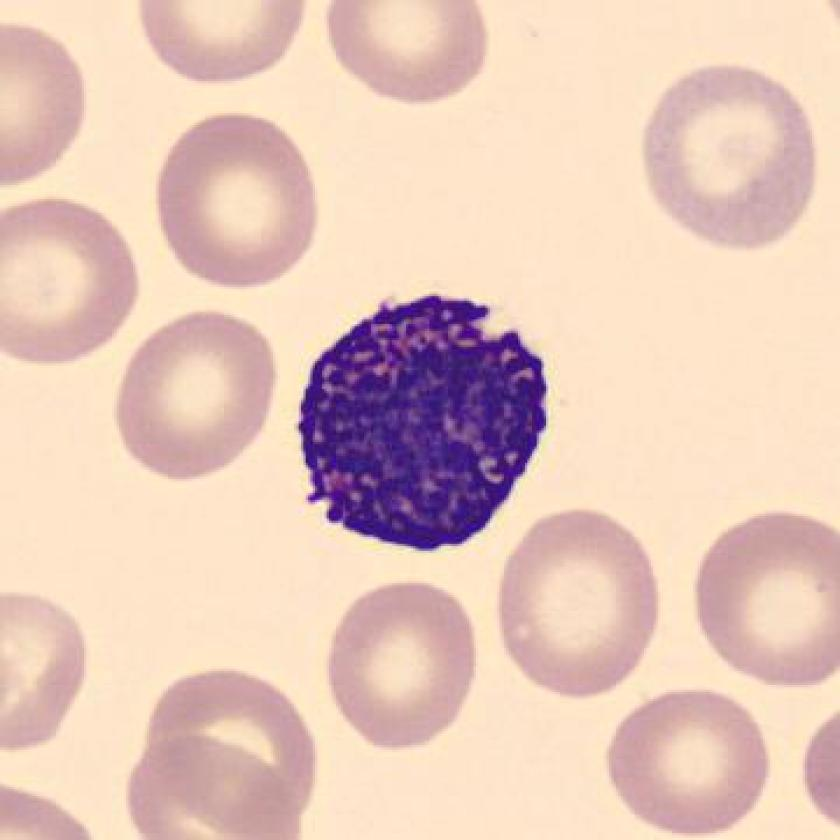basophil: (293, 279, 554, 559)
